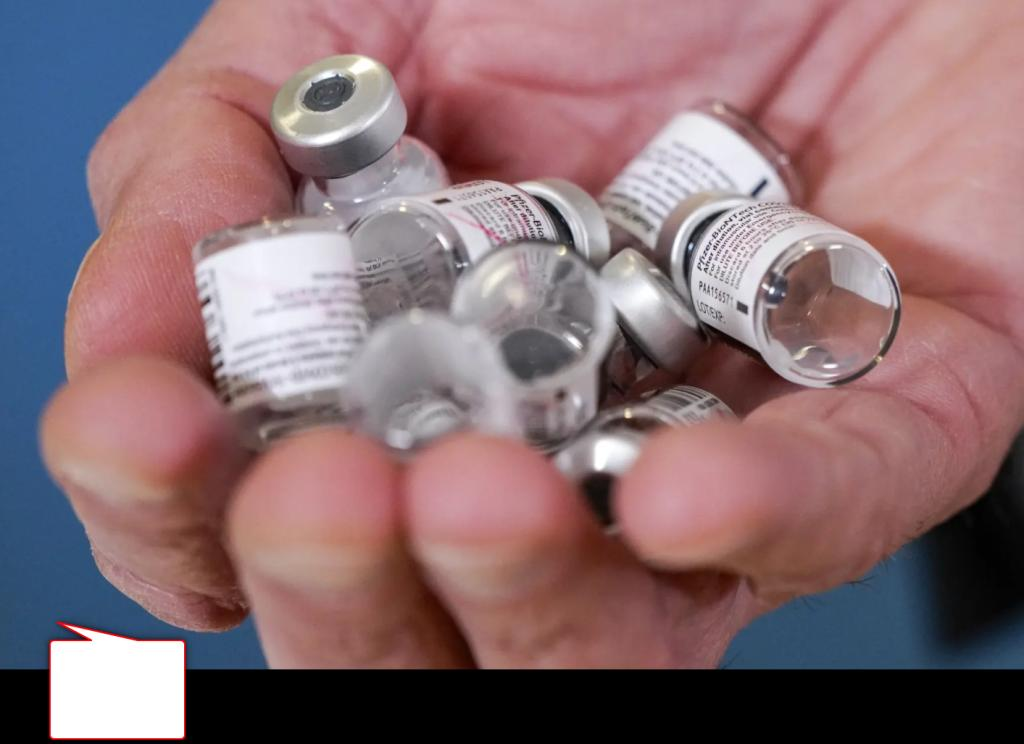Syringe: (643, 181, 930, 396), (171, 220, 380, 406), (253, 46, 467, 202)
